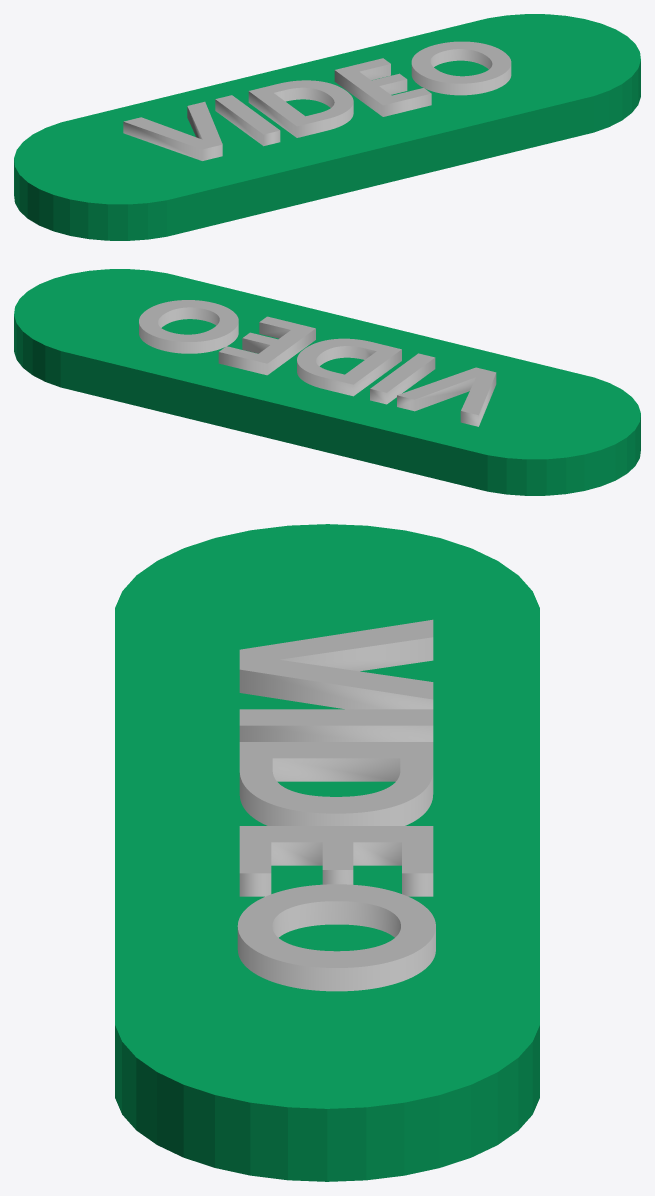
Rendered from video_button.gltf.
3 renders of one model, top to bottom at view 1: azimuth 30°, elevation 25°; view 2: azimuth 150°, elevation 25°; view 3: azimuth 270°, elevation 25°, orthographic. The views are drawn at different scales.
Visible parts, largest first — view 1: Circle.001; view 2: Circle.001; view 3: Circle.001.
Part boxes in pixels (x1=…): Circle.001: x1=14, y1=14, x2=640, y2=240; Circle.001: x1=14, y1=269, x2=640, y2=495; Circle.001: x1=115, y1=524, x2=539, y2=1181.
Size of the model in its own units: 0.6925 by 0.0532 by 0.2127.
